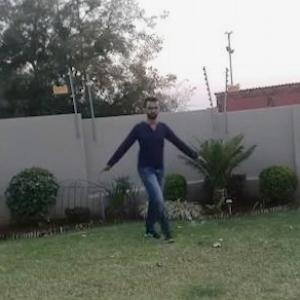land: (101, 103, 200, 234)
